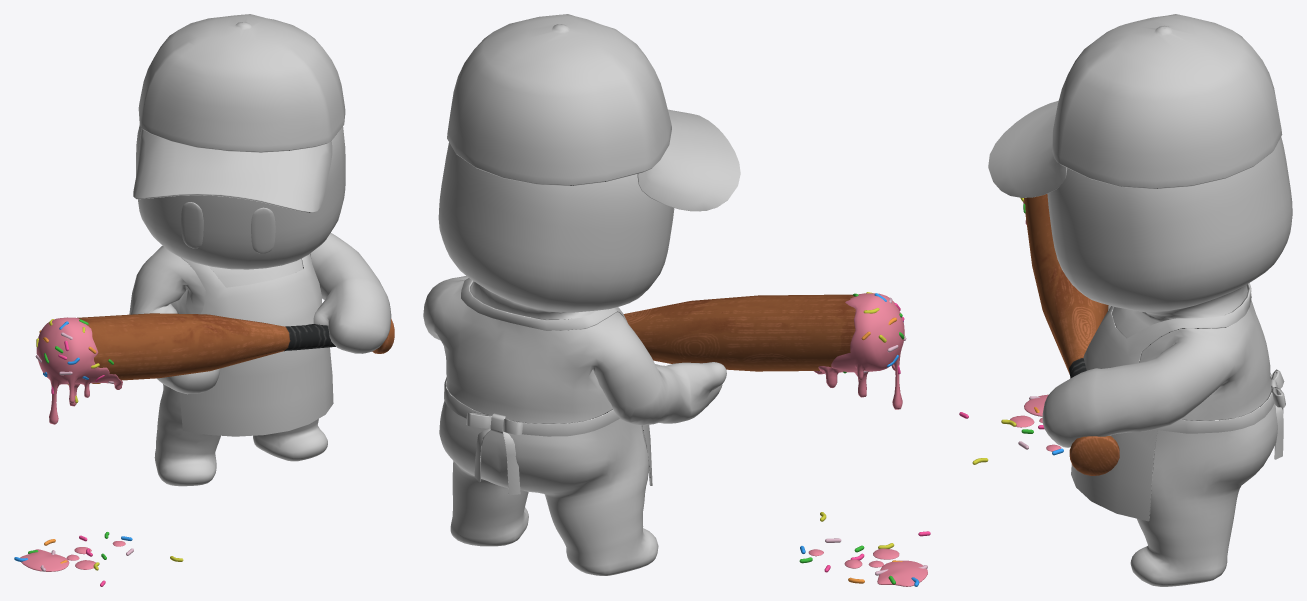
The model's file is SM_Character_pose_01.fbx.
3 views of the same model, side by side, from view 1: azimuth 30°, elevation 25°; view 2: azimuth 150°, elevation 25°; view 3: azimuth 270°, elevation 25° (orthographic). The views are drawn at different scales.
Parts seen in each view (by area): view 1: Character_GEO, Cap_Main_low1, Apron4, Bat_low1, Cap_Visor_low1, Guts_low4, L_Eye_Open_GEO, R_Eye_Open_GEO; view 2: Character_GEO, Cap_Main_low1, Bat_low1, Guts_low4, Cap_Visor_low1, Apron4; view 3: Character_GEO, Cap_Main_low1, Apron4, Bat_low1, Cap_Visor_low1, Guts_low4.
Part boxes in pixels (x1,y1,x2,y2): Character_GEO: (129, 125, 391, 486); Cap_Main_low1: (138, 14, 345, 152); Apron4: (180, 254, 333, 436); Bat_low1: (77, 313, 394, 380); Cap_Visor_low1: (133, 128, 332, 212); Guts_low4: (14, 317, 183, 586); L_Eye_Open_GEO: (251, 207, 275, 253); R_Eye_Open_GEO: (181, 202, 203, 248); Character_GEO: (423, 142, 726, 575); Cap_Main_low1: (447, 14, 671, 185); Bat_low1: (623, 294, 855, 371); Guts_low4: (799, 292, 930, 586); Cap_Visor_low1: (637, 109, 740, 211); Apron4: (444, 278, 652, 495); Character_GEO: (1042, 137, 1292, 586); Cap_Main_low1: (1052, 14, 1282, 188); Apron4: (1071, 283, 1285, 521); Bat_low1: (1024, 194, 1119, 475); Cap_Visor_low1: (988, 100, 1067, 197); Guts_low4: (959, 197, 1063, 464).
Bounding box in the file's own units: 5.84 × 6.43 × 3.75.
